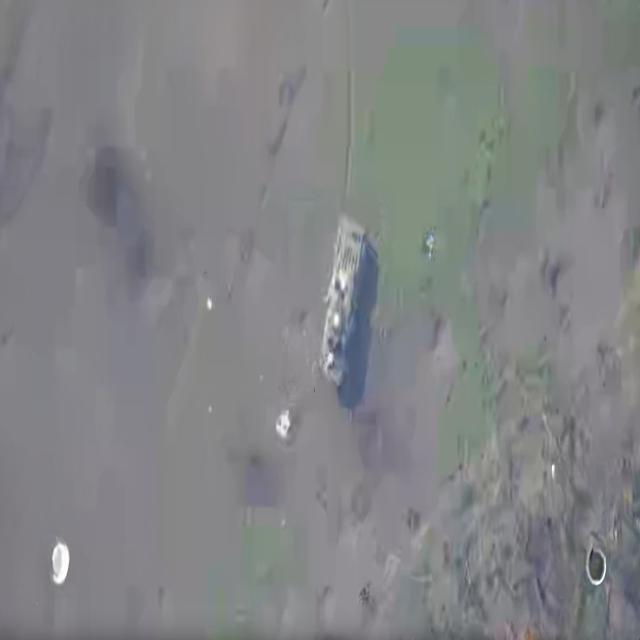APC: (321, 214, 374, 394)
